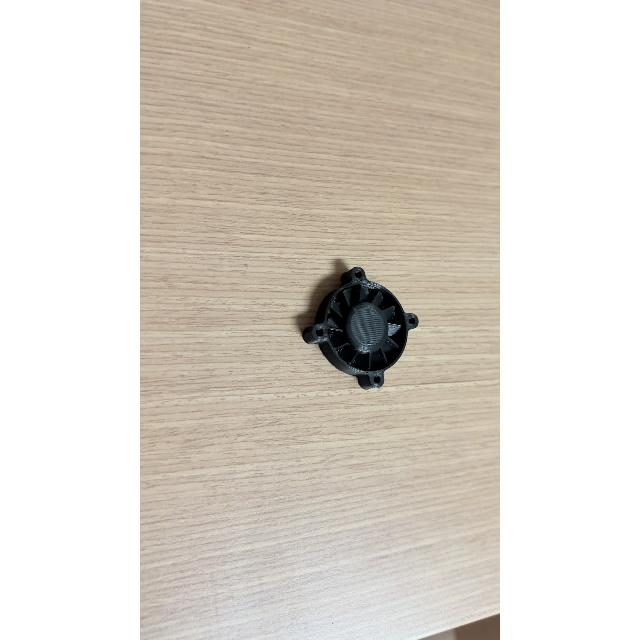Pieza_4: (292, 242, 432, 406)
